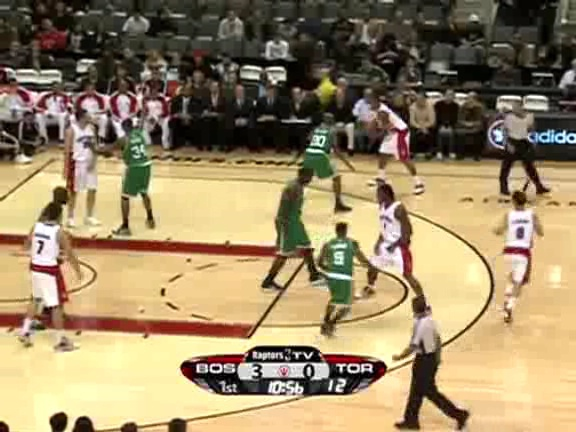person: (322, 232, 356, 313), (321, 232, 355, 313), (323, 232, 357, 313), (322, 231, 356, 312), (322, 233, 356, 314)
target_negative: (62, 118, 479, 391), (191, 93, 450, 407), (242, 201, 318, 370), (533, 54, 553, 392), (341, 75, 353, 227), (464, 401, 569, 413)
